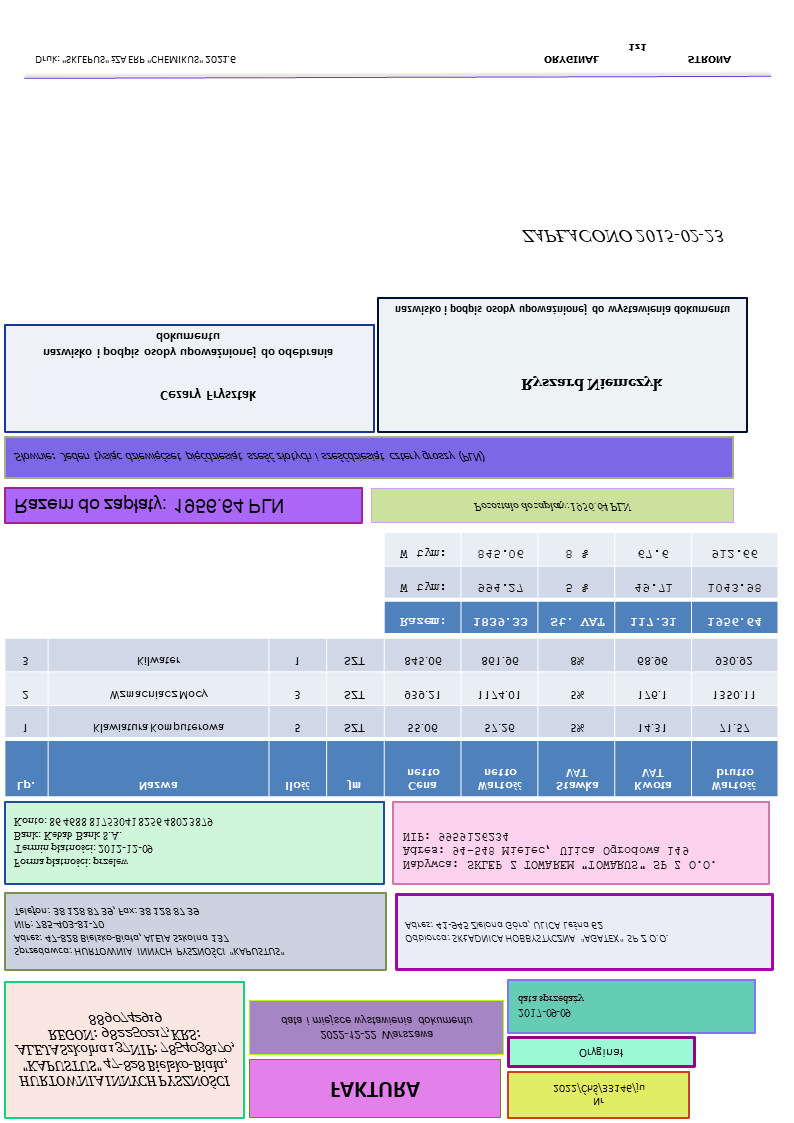Table: (3, 637, 779, 799), (383, 532, 780, 634)
TextBox: (13, 1009, 238, 1090), (11, 903, 287, 958), (400, 830, 719, 873), (12, 815, 216, 871), (39, 332, 336, 361), (12, 448, 487, 465), (402, 919, 670, 948), (12, 493, 285, 517), (392, 301, 732, 318), (280, 1013, 475, 1042), (540, 40, 733, 67), (519, 227, 726, 246), (520, 375, 664, 395), (33, 52, 238, 66), (551, 1080, 647, 1108), (471, 500, 634, 515), (328, 1078, 422, 1101), (515, 992, 585, 1021), (159, 387, 258, 404), (577, 1045, 625, 1061)
